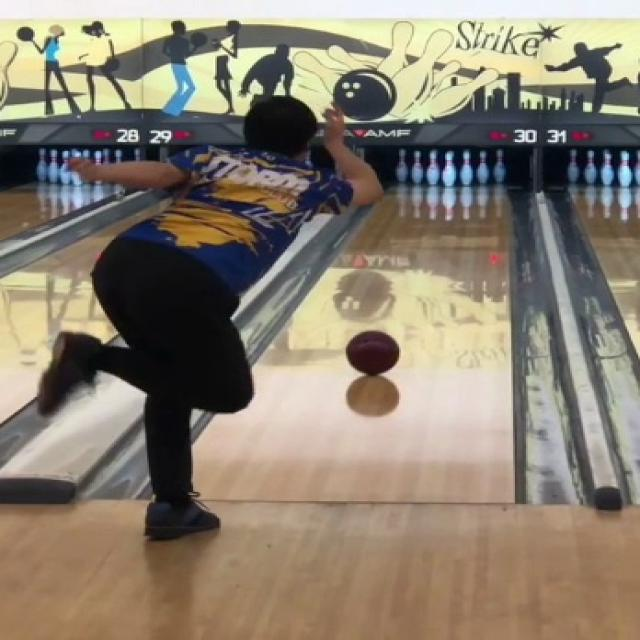alley: (195, 190, 509, 500)
balls: (346, 331, 399, 374)
bottle: (394, 149, 504, 183)
